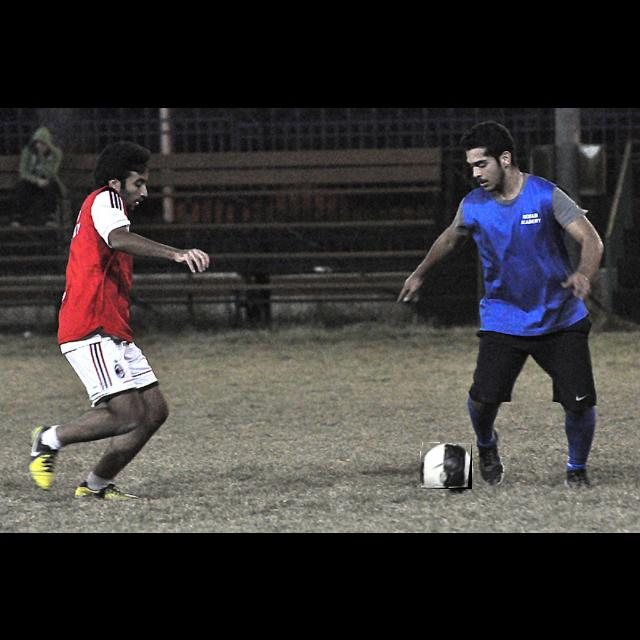Football: (420, 443, 472, 489)
